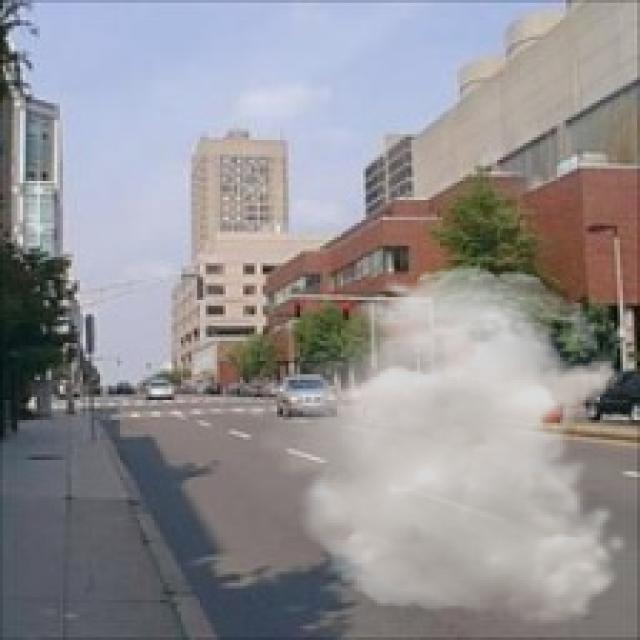smoke: (252, 266, 628, 626)
